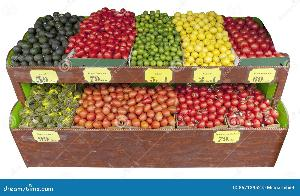avocado: (0, 8, 84, 70), (18, 76, 80, 128)
lemon: (174, 6, 234, 72)
lime: (132, 11, 180, 67)
tomato: (75, 80, 175, 134), (67, 6, 137, 66), (227, 8, 283, 72), (226, 70, 276, 134), (178, 81, 224, 132)
